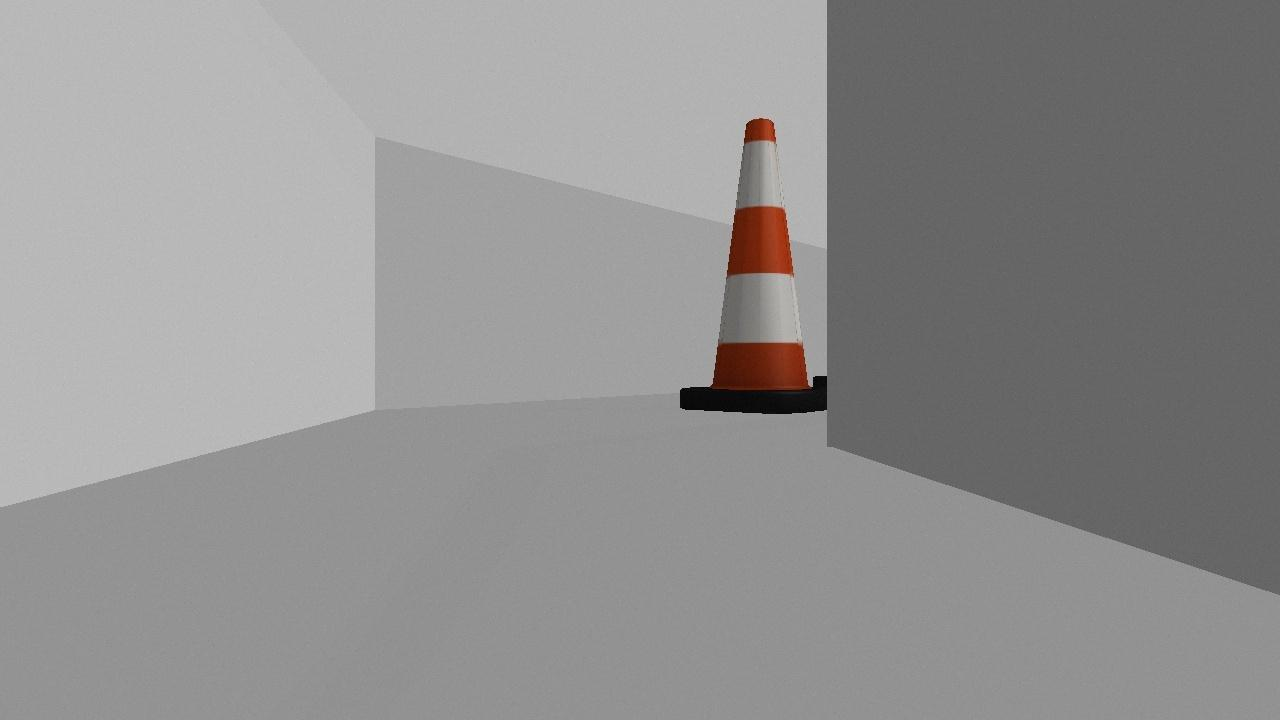cone_barrel: (677, 116, 826, 414)
